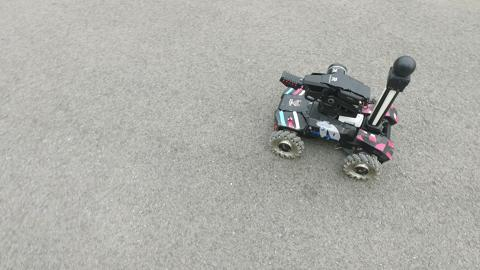chariot: (269, 54, 417, 182)
